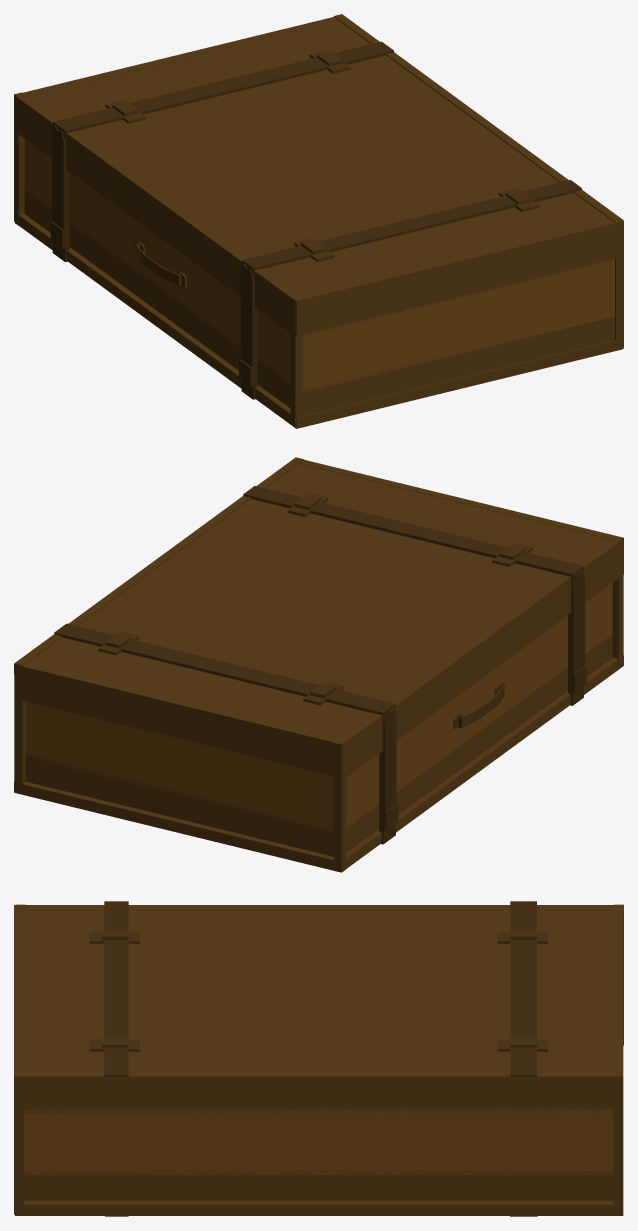
Rendered from Luggage2.fbx.
3 renders of one model, top to bottom at view 1: azimuth 30°, elevation 25°; view 2: azimuth 150°, elevation 25°; view 3: azimuth 270°, elevation 25°, orthographic. The views are drawn at different scales.
Parts seen in each view (by area): view 1: Cube.004, Cube, Cube.005, Cube.003, Cube.001, Cube.032, Cube.035, Cube.025, Cube.042, Cube.036, Cube.031, Cube.033 (+7 smaller); view 2: Cube.004, Cube, Cube.005, Cube.002, Cube.001, Cube.035, Cube.025, Cube.038, Cube.042, Cube.036, Cube.037, Cube.033 (+7 smaller); view 3: Cube.004, Cube, Cube.005, Cube.033, Cube.034, Cube.025, Cube.042, Cube.035, Cube.032, Cube.037, Cube.028, Cube.029.
Part boxes in pixels (bbox=[...]): Cube.004: bbox=[27, 20, 614, 335]; Cube: bbox=[24, 139, 614, 392]; Cube.005: bbox=[24, 187, 614, 415]; Cube.003: bbox=[296, 231, 615, 335]; Cube.001: bbox=[18, 108, 303, 336]; Cube.032: bbox=[296, 220, 615, 311]; Cube.035: bbox=[18, 96, 297, 311]; Cube.025: bbox=[53, 41, 393, 136]; Cube.042: bbox=[242, 180, 581, 271]; Cube.036: bbox=[19, 214, 295, 428]; Cube.031: bbox=[292, 340, 621, 428]; Cube.033: bbox=[334, 14, 623, 222]; Cube.004: bbox=[27, 463, 610, 738]; Cube: bbox=[26, 583, 612, 832]; Cube.005: bbox=[26, 634, 612, 856]; Cube.002: bbox=[22, 670, 333, 776]; Cube.001: bbox=[346, 548, 623, 777]; Cube.035: bbox=[339, 538, 623, 751]; Cube.025: bbox=[54, 623, 395, 718]; Cube.038: bbox=[17, 782, 346, 872]; Cube.042: bbox=[243, 486, 583, 578]; Cube.036: bbox=[346, 658, 618, 868]; Cube.037: bbox=[22, 663, 344, 752]; Cube.033: bbox=[14, 457, 303, 673]; Cube.004: bbox=[24, 909, 612, 1113]; Cube: bbox=[24, 1108, 613, 1174]; Cube.005: bbox=[24, 1171, 613, 1200]; Cube.033: bbox=[15, 1072, 623, 1088]; Cube.034: bbox=[15, 1200, 623, 1215]; Cube.025: bbox=[510, 901, 536, 1076]; Cube.042: bbox=[104, 901, 128, 1076]; Cube.035: bbox=[25, 905, 612, 909]; Cube.032: bbox=[14, 905, 24, 1073]; Cube.037: bbox=[613, 905, 623, 1072]; Cube.028: bbox=[613, 1088, 623, 1204]; Cube.029: bbox=[14, 1073, 23, 1214].
Bounding box in the file's own units: 131 × 51.98 × 194.
